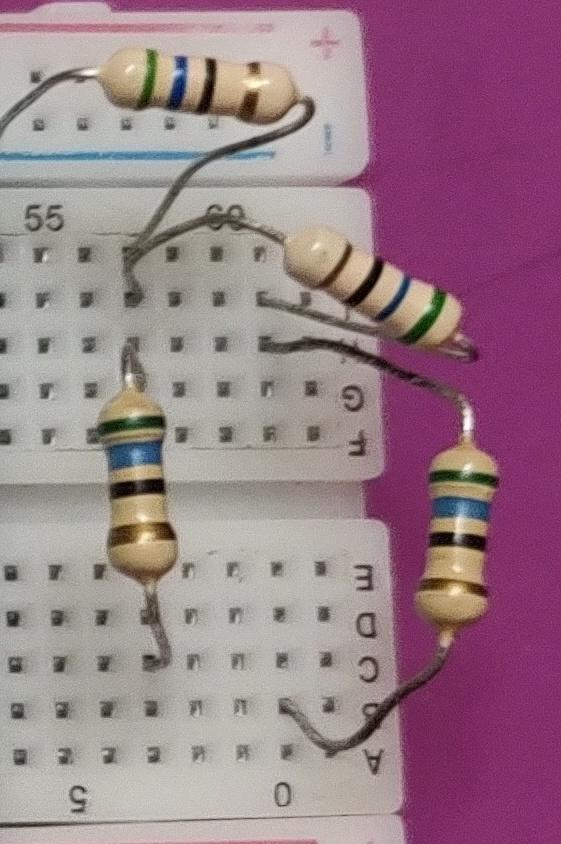resistor: (277, 214, 466, 346), (87, 380, 201, 593), (90, 39, 310, 127), (409, 429, 508, 621)
